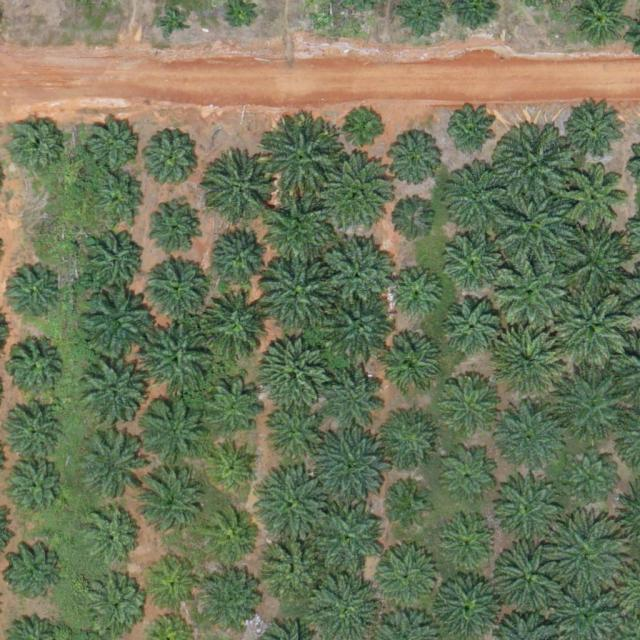Healthy: (544, 515, 622, 594), (558, 289, 636, 368), (495, 127, 573, 206), (264, 124, 342, 203), (498, 186, 576, 264), (491, 328, 562, 399), (444, 161, 515, 232), (326, 158, 397, 229), (265, 197, 336, 268), (560, 372, 630, 443), (498, 256, 568, 327), (494, 474, 564, 545), (494, 544, 564, 615), (374, 545, 444, 616), (326, 292, 396, 363), (260, 260, 330, 331), (258, 335, 328, 406), (263, 472, 333, 543), (194, 373, 265, 443), (199, 291, 269, 362), (142, 326, 212, 397), (139, 395, 209, 466), (137, 467, 207, 538), (81, 290, 151, 361), (561, 227, 631, 297), (492, 405, 562, 475), (314, 504, 384, 574), (315, 430, 385, 500), (323, 238, 393, 308), (565, 170, 628, 233), (564, 101, 627, 164), (380, 335, 443, 398), (212, 224, 275, 287), (209, 160, 272, 223), (77, 434, 140, 497), (325, 359, 387, 422), (140, 127, 202, 190), (5, 336, 68, 398), (3, 403, 65, 466), (4, 458, 66, 521), (265, 536, 327, 598), (148, 258, 210, 320), (83, 572, 145, 634), (80, 364, 142, 426), (83, 229, 145, 291), (387, 134, 442, 190), (441, 517, 496, 572), (445, 377, 500, 432), (444, 233, 499, 288), (388, 267, 443, 322), (383, 411, 438, 466), (262, 407, 317, 462), (202, 574, 257, 629), (201, 511, 256, 566), (144, 199, 199, 254), (83, 508, 138, 563), (94, 171, 149, 226), (8, 118, 63, 173), (445, 298, 499, 353), (87, 119, 141, 174), (6, 545, 60, 600), (447, 455, 494, 503), (569, 449, 616, 496)
Small: (206, 441, 261, 496), (444, 106, 499, 161), (388, 200, 435, 247), (389, 485, 429, 525), (347, 107, 386, 147), (158, 7, 189, 39)
Yellow: (147, 558, 201, 613)
